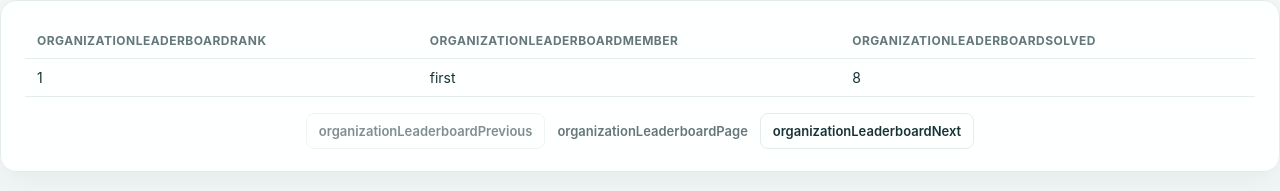
Test case: OrganizationLeaderboardPanel › paginates through the API response
This screenshot has width=1280, height=191.
Click the button "organizationLeaderboardNext" at (867,131), box [760,113,974,149]
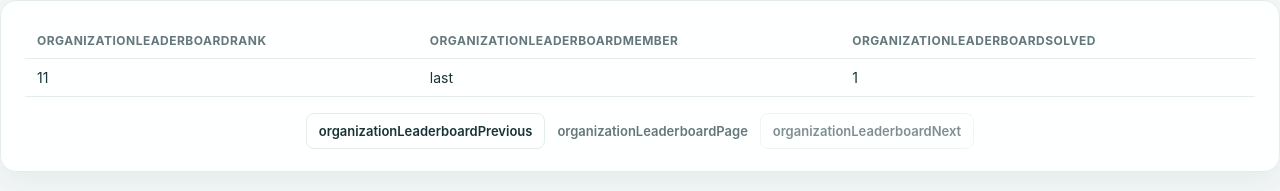
Expected: the text "organizationLeaderboardPage" is shown, [557,123,748,139]
Now the text "last" is shown, box [418,58,840,96]
